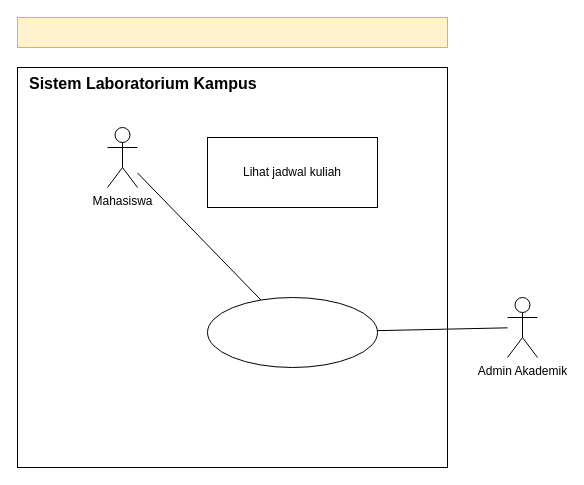
This 584x485 diagram has some shape labels left out. The shapes that lost their labels are listed below. From the top down, each one's box as (x1, y1, x2, y2) in pixels, then its label:
(16, 16, 448, 48): DIAGRAM AWAL UNTUK KOREKSI
(206, 296, 378, 368): Kelola jadwal kuliah
